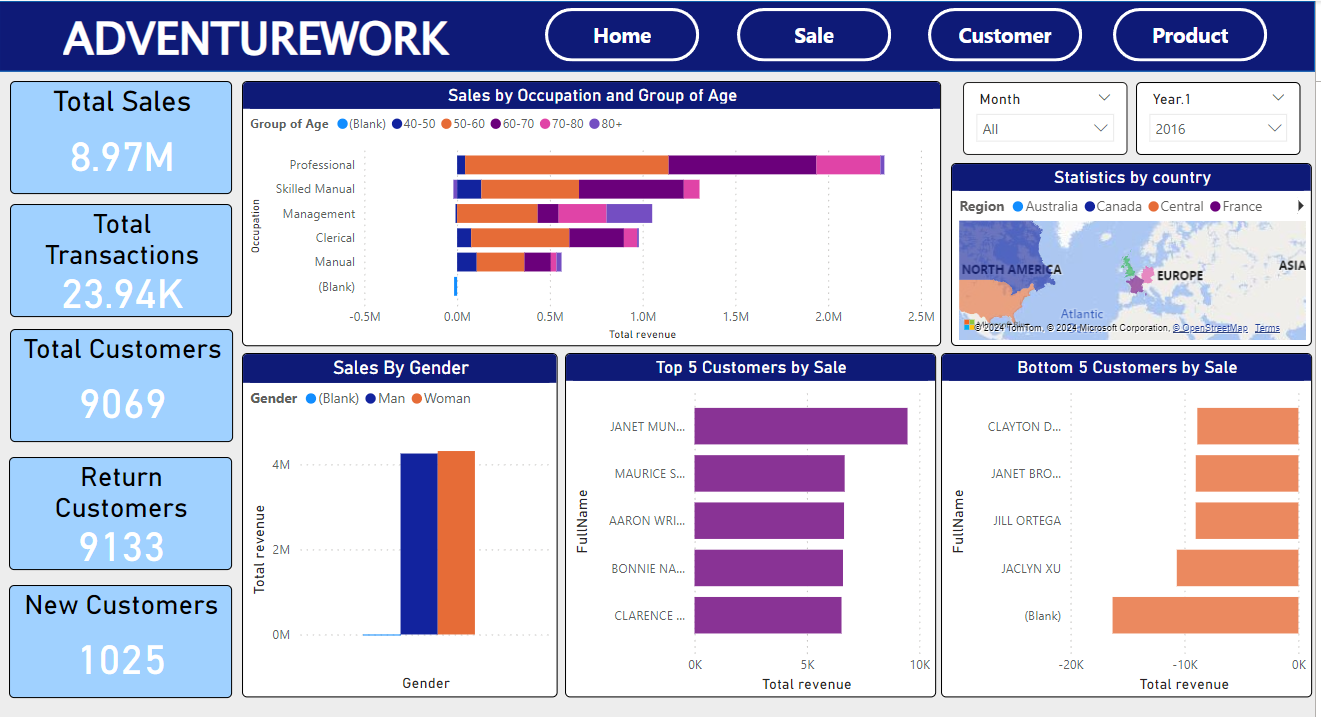

What the dashboard file says about the page in this screenshot:
{"tool":"powerbi","page":{"name":"Customer Report","canvas":[1280,720],"ordinal":2},"visuals":[{"type":"card","title":"Total Sales","fields":{"Values":["Measure.Total revenue"]},"box":[10.7,77.8,215.9,109.9],"z":0},{"type":"card","title":"Total Transactions","fields":{"Values":["Measure.Total transactions"]},"box":[10.7,197.4,215.9,109.9],"z":1000},{"type":"card","title":"Total Customers","fields":{"Values":["Measure.Total customer"]},"box":[10.7,319,216.9,109.9],"z":2000},{"type":"shape","box":[0,0,1280,68.7],"z":3000},{"type":"textbox","box":[57.5,0,409,77.7],"z":4000},{"type":"actionButton","box":[717.5,7,150,52],"z":5000},{"type":"actionButton","box":[903.5,7,150,52],"z":6000},{"type":"actionButton","box":[1083.5,7,150,52],"z":7000},{"type":"actionButton","box":[531.5,7,150,52],"z":8000},{"type":"slicer","fields":{"Values":["Dim_date.Year.1"]},"box":[1105.9,78.8,160.5,71],"z":9000},{"type":"clusteredColumnChart","title":"Sales By Gender","fields":{"Y":["Measure.Total revenue"],"Series":["Dim_customer.Gender"]},"box":[235.9,342.8,307.2,335.5],"z":10000},{"type":"card","title":"Return Customers","fields":{"Values":["Measure.Return cus"]},"box":[9.7,443.5,216.9,109.9],"z":11000},{"type":"card","title":"New Customers","fields":{"Values":["Measure.New cus"]},"box":[9.7,568,216.9,109.9],"z":12000},{"type":"slicer","fields":{"Values":["Dim_date.Month"]},"box":[937.6,78.8,159.5,71],"z":13000},{"type":"barChart","title":"Sales by Occupation and Group of Age","fields":{"Category":["Dim_customer.Occupation"],"Y":["Measure.Total revenue"],"Series":["Dim_customer.Group of Age"]},"box":[235.9,77.6,680.4,257.9],"z":15001},{"type":"clusteredBarChart","title":"Top 5 Customers by Sale","fields":{"Category":["Dim_customer.FullName"],"Y":["Measure.Total revenue"]},"box":[550.4,342.8,360.6,335.5],"z":15002},{"type":"clusteredBarChart","title":"Bottom 5 Customers by Sale","fields":{"Category":["Dim_customer.FullName"],"Y":["Measure.Total revenue"]},"box":[916.2,342.8,360.6,335.5],"z":15003},{"type":"filledMap","title":"Statistics by country","fields":{"Category":["Dim_Territories.Country","Dim_Territories.Continent"],"Series":["Dim_Territories.Region"]},"box":[925.7,157.2,351.2,178.2],"z":15004}]}

Visuals, with their boxes in screenshot pixels (x1, y1, x2, y2):
"Total Sales" card: bbox=(14, 79, 234, 191)
"Total Transactions" card: bbox=(14, 201, 234, 312)
"Total Customers" card: bbox=(14, 324, 235, 436)
shape: bbox=(3, 0, 1304, 70)
textbox: bbox=(62, 0, 477, 79)
actionButton: bbox=(732, 7, 885, 60)
actionButton: bbox=(921, 7, 1074, 60)
actionButton: bbox=(1104, 7, 1257, 60)
actionButton: bbox=(543, 7, 696, 60)
slicer - Dim_date.Year.1: bbox=(1127, 80, 1290, 152)
"Sales By Gender" clusteredColumnChart: bbox=(243, 348, 555, 689)
"Return Customers" card: bbox=(13, 451, 234, 562)
"New Customers" card: bbox=(13, 577, 234, 689)
slicer - Dim_date.Month: bbox=(956, 80, 1118, 152)
"Sales by Occupation and Group of Age" barChart: bbox=(243, 79, 934, 341)
"Top 5 Customers by Sale" clusteredBarChart: bbox=(563, 348, 929, 689)
"Bottom 5 Customers by Sale" clusteredBarChart: bbox=(934, 348, 1301, 689)
"Statistics by country" filledMap: bbox=(944, 160, 1301, 341)
